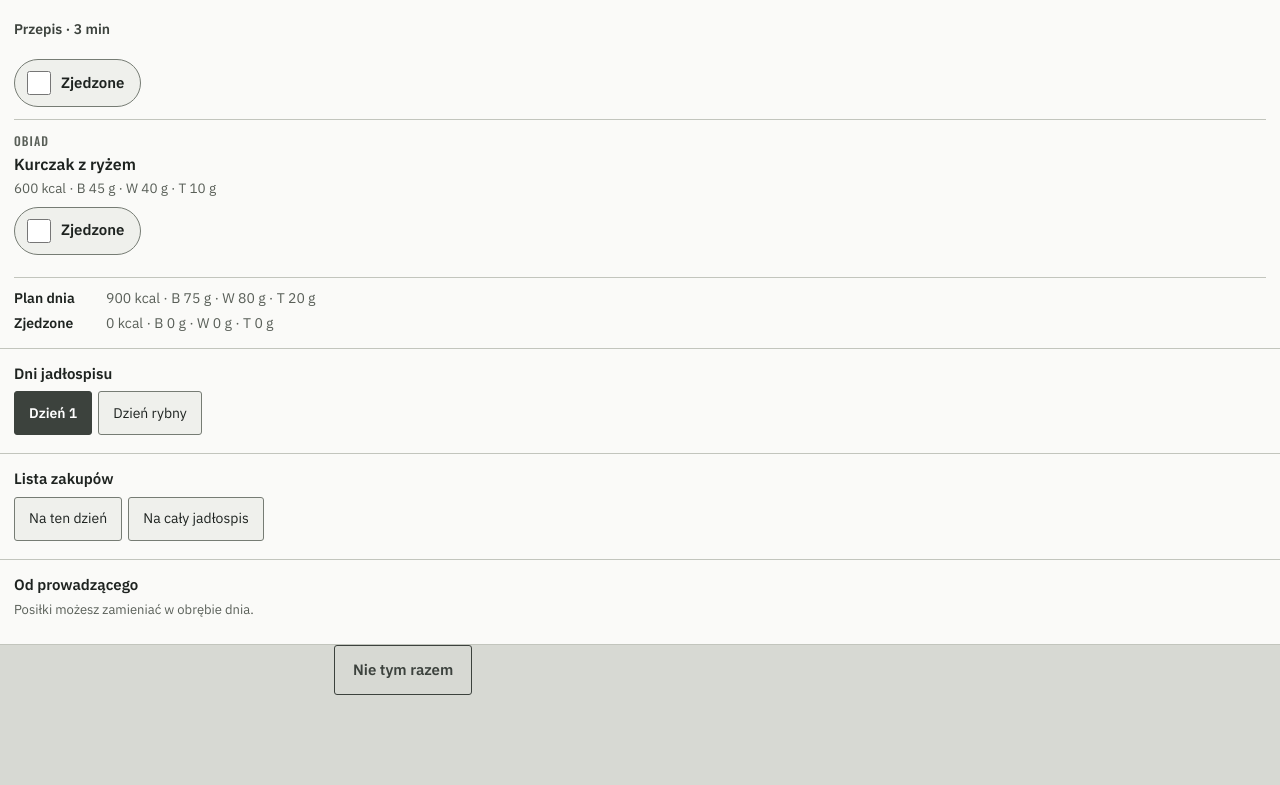
it: jadłospis › lista zakupów ze składników przepisów, posiłki bez przepisu osobno
(page scrolled)
Click the button "Na cały jadłospis" at (196, 519), box [128,497,264,541]
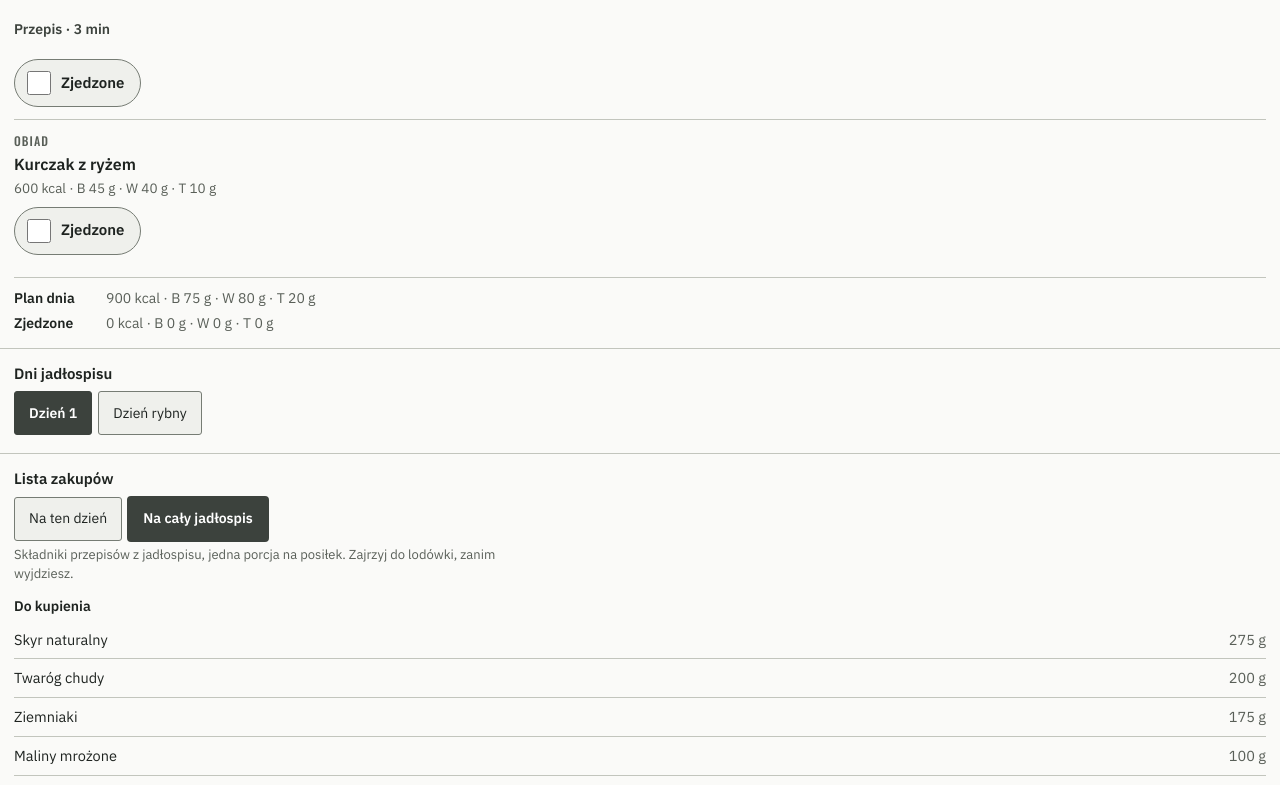
Expected: the heading "Do kupienia" is shown, [14,597,91,615]
Expected: the list item "Skyr naturalny" shows "275 g", [1229,630,1266,649]
Click the button "Na ten dzień" at (68, 519), box [14,497,122,541]
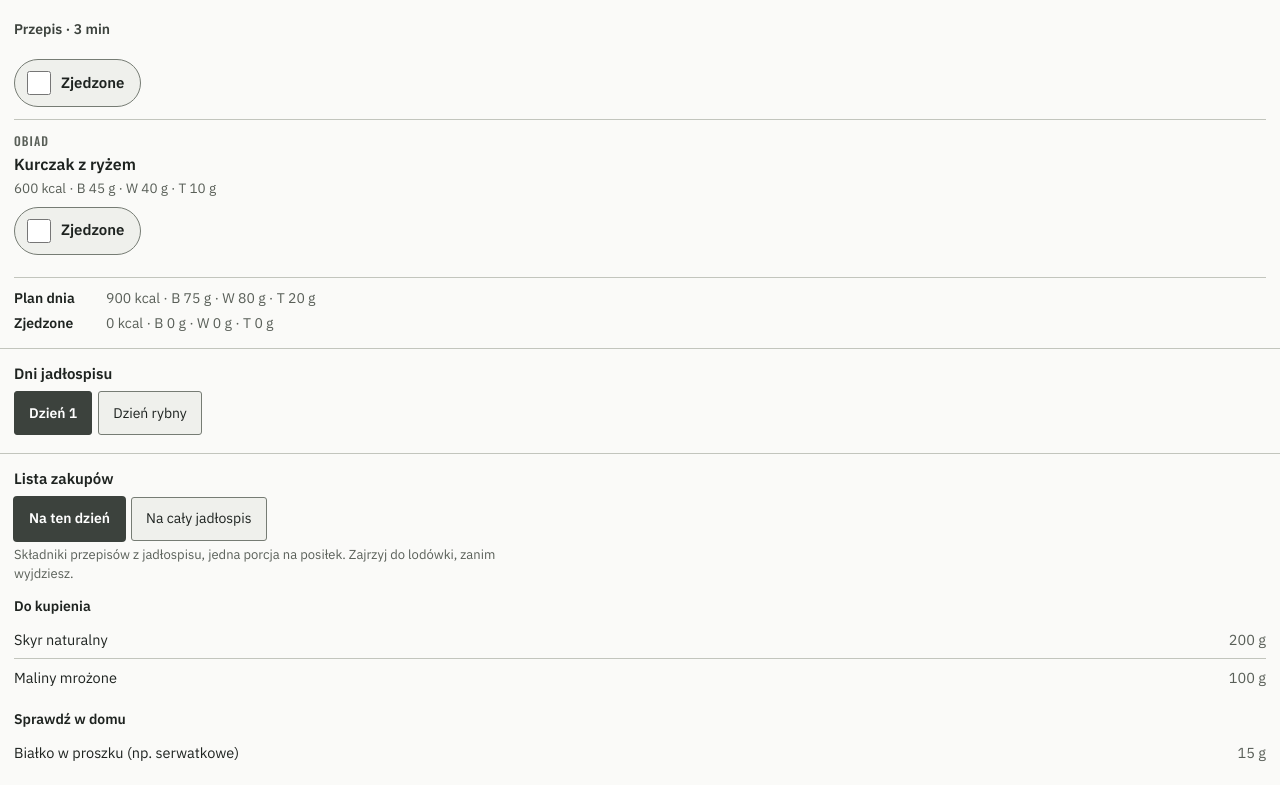
Expected: the list item "Skyr naturalny" shows "200 g", [1229,630,1266,649]
